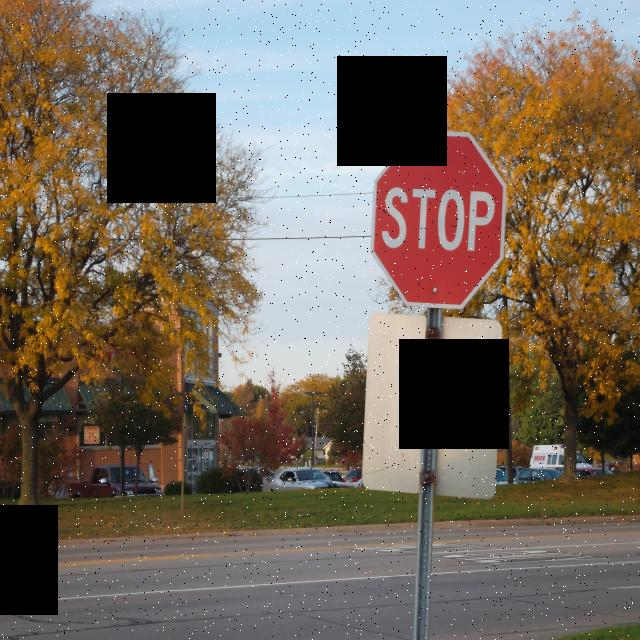stop: (371, 129, 507, 314)
